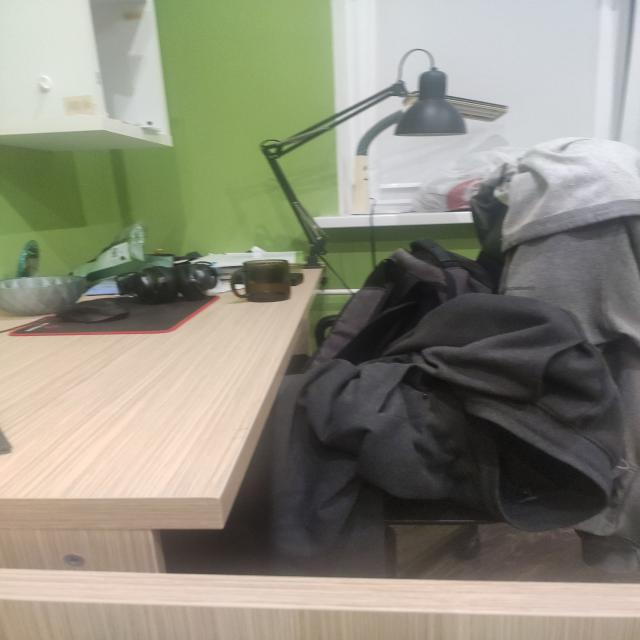cups: (230, 259, 291, 302)
